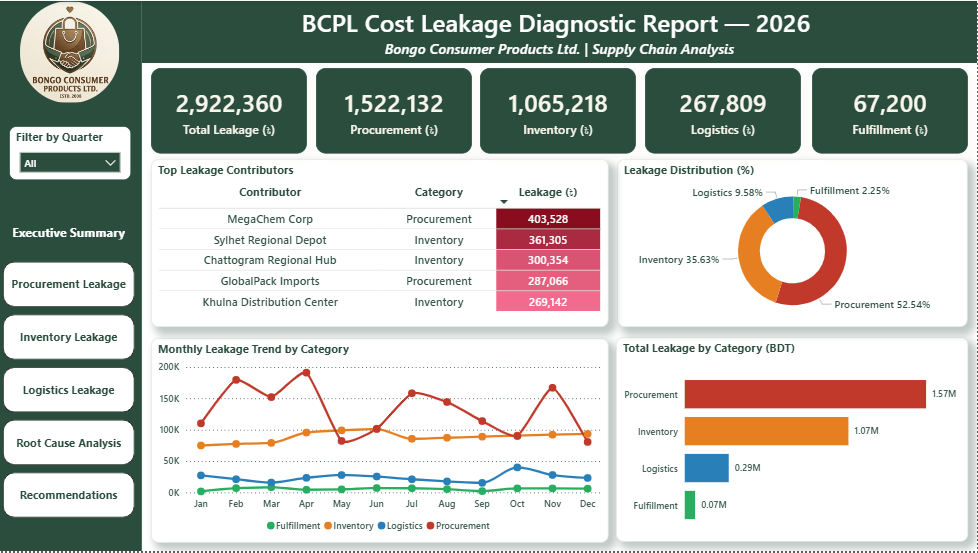

The page's visual inventory and layout, read from the dashboard file:
{"tool":"powerbi","page":{"name":"Executive Summary","canvas":[1280,720],"ordinal":0},"visuals":[{"type":"shape","box":[0,0,187.2,720],"z":0},{"type":"lineChart","title":"Monthly Leakage Trend by Category","fields":{"Y":["Sum(vw_total_leakage_summary.leakage_amount)"],"Series":["vw_total_leakage_summary.leakage_category"],"Category":["vw_total_leakage_summary.Month_Short"]},"box":[198.7,440.6,599,267.8],"z":1000},{"type":"barChart","title":"Total Leakage by Category (BDT)","fields":{"Category":["vw_total_leakage_summary.leakage_category"],"Y":["Sum(vw_total_leakage_summary.leakage_amount)"]},"box":[807.9,440.4,461.1,268.4],"z":2000},{"type":"donutChart","title":"Leakage Distribution (%)","fields":{"Category":["vw_total_leakage_summary.leakage_category"],"Y":["Sum(vw_total_leakage_summary.leakage_amount)"]},"box":[809.3,207.4,459.4,220.3],"z":3000},{"type":"slicer","title":"Filter by Quarter","fields":{"Values":["vw_total_leakage_summary.quarter"]},"box":[13,164.2,159.8,70.6],"z":4000},{"type":"tableEx","title":"Top Leakage Contributors","fields":{"Values":["vw_leakage_by_supplier_route.entity_name","vw_leakage_by_supplier_route.leakage_category","Sum(vw_leakage_by_supplier_route.leakage_amount)"]},"box":[198.7,207.4,599,220.3],"z":5000},{"type":"card","fields":{"Values":["_Measures.Grand Total Leakage"]},"box":[198.7,87.8,204.5,112.3],"z":6000},{"type":"card","fields":{"Values":["_Measures.Total Procurement Leakage"]},"box":[414.7,87.8,204.5,112.3],"z":7000},{"type":"card","fields":{"Values":["_Measures.Total Inventory Leakage"]},"box":[629.3,87.8,204.5,112.3],"z":8000},{"type":"card","fields":{"Values":["_Measures.Total Logistics Leakage"]},"box":[845.3,87.8,204.5,112.3],"z":9000},{"type":"card","fields":{"Values":["_Measures.Total Fulfillment Leakage"]},"box":[1064.2,87.8,204.5,112.3],"z":10000},{"type":"textbox","box":[187.2,0,1093,80.6],"z":11000},{"type":"image","box":[27.4,0,129.6,133.9],"z":12000},{"type":"pageNavigator","box":[5.8,272.2,172.8,406.1],"z":13000}]}

Visuals, with their boxes in screenshot pixels (x1, y1, x2, y2), scaled from the page's 1280x720 canvas onto the 978x553 screenshot:
shape: left=0, top=0, right=143, bottom=552
"Monthly Leakage Trend by Category" lineChart: left=152, top=338, right=609, bottom=544
"Total Leakage by Category (BDT)" barChart: left=617, top=338, right=970, bottom=544
"Leakage Distribution (%)" donutChart: left=618, top=159, right=969, bottom=328
"Filter by Quarter" slicer: left=10, top=126, right=132, bottom=180
"Top Leakage Contributors" tableEx: left=152, top=159, right=609, bottom=328
card - _Measures.Grand Total Leakage: left=152, top=67, right=308, bottom=154
card - _Measures.Total Procurement Leakage: left=317, top=67, right=473, bottom=154
card - _Measures.Total Inventory Leakage: left=481, top=67, right=637, bottom=154
card - _Measures.Total Logistics Leakage: left=646, top=67, right=802, bottom=154
card - _Measures.Total Fulfillment Leakage: left=813, top=67, right=969, bottom=154
textbox: left=143, top=0, right=977, bottom=62
image: left=21, top=0, right=120, bottom=103
pageNavigator: left=4, top=209, right=136, bottom=521
